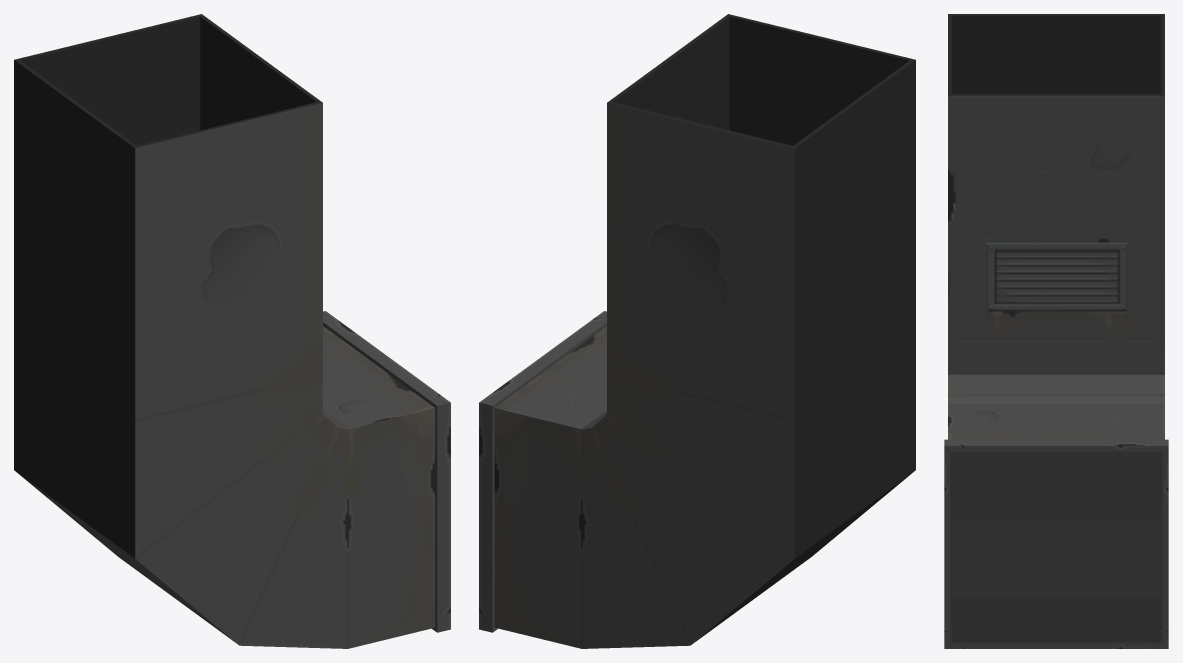
File: item_popOut.fbx
3 views of the same model, side by side, from view 1: azimuth 30°, elevation 25°; view 2: azimuth 150°, elevation 25°; view 3: azimuth 270°, elevation 25° (orthographic). The views are drawn at different scales.
Visible parts, largest first — view 1: Cube.003; view 2: Cube.003; view 3: Cube.003.
Part boxes in pixels (x1=…): Cube.003: x1=14, y1=14, x2=450, y2=648; Cube.003: x1=479, y1=14, x2=915, y2=648; Cube.003: x1=944, y1=14, x2=1168, y2=648.
Bounding box in the file's own units: 299 × 506 × 207.
1 material, 1 textured.
